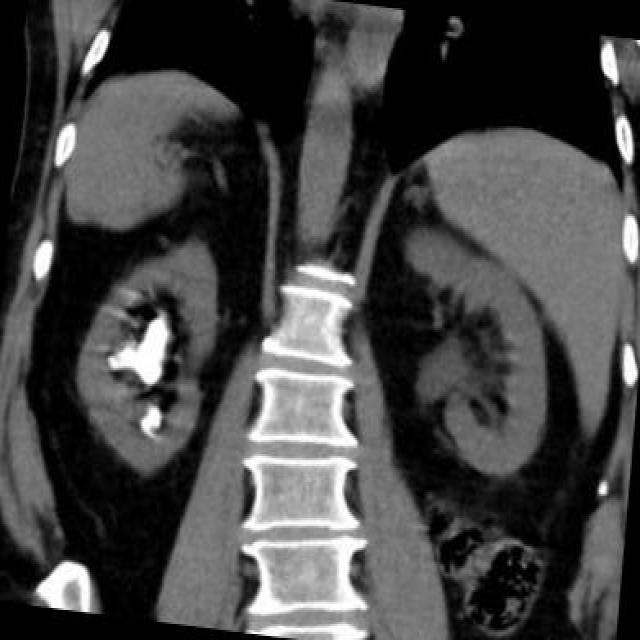Tas_Var: (115, 309, 171, 389), (145, 403, 161, 433), (136, 411, 152, 437), (110, 361, 118, 371), (106, 355, 110, 363)
